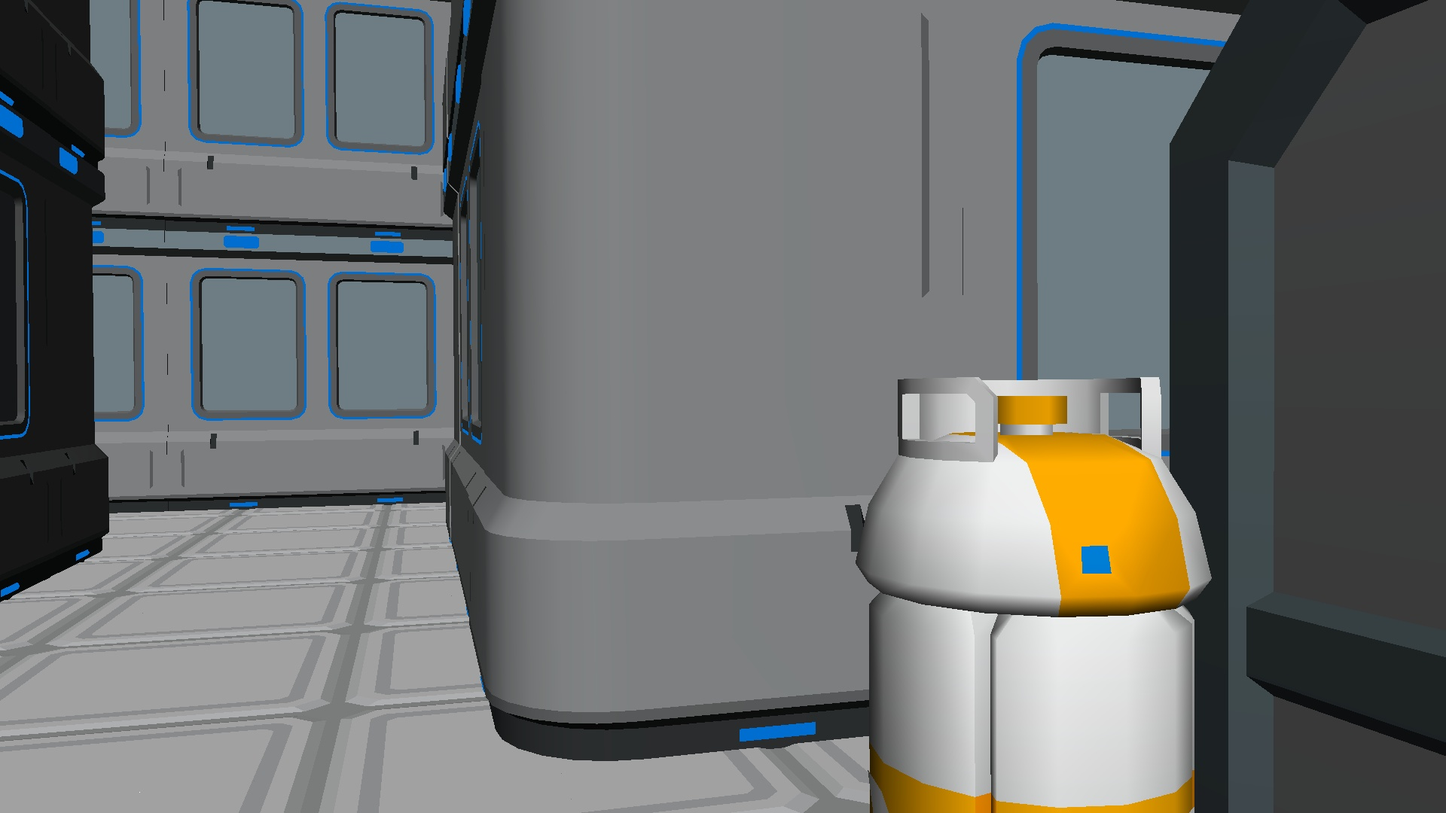yellow barrel: (845, 377, 1213, 813)
